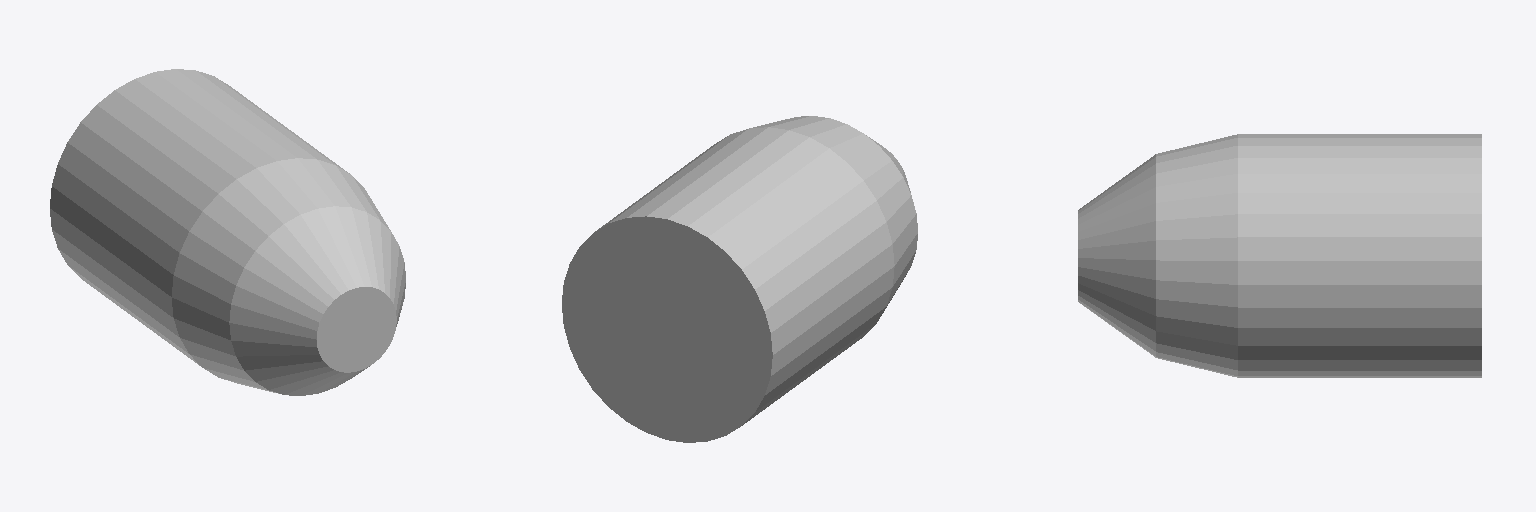
File: Bullet.obj
3 views of the same model, side by side, from view 1: azimuth 30°, elevation 25°; view 2: azimuth 150°, elevation 25°; view 3: azimuth 270°, elevation 25° (orthographic).
Parts seen in each view (by area): view 1: Cylinder; view 2: Cylinder; view 3: Cylinder.
Part boxes in pixels (x1,y1,x2,y2): Cylinder: (50, 69, 405, 395); Cylinder: (562, 116, 917, 442); Cylinder: (1078, 134, 1481, 377).
Bounding box in the file's own units: 0.0317 × 0.0317 × 0.0523.